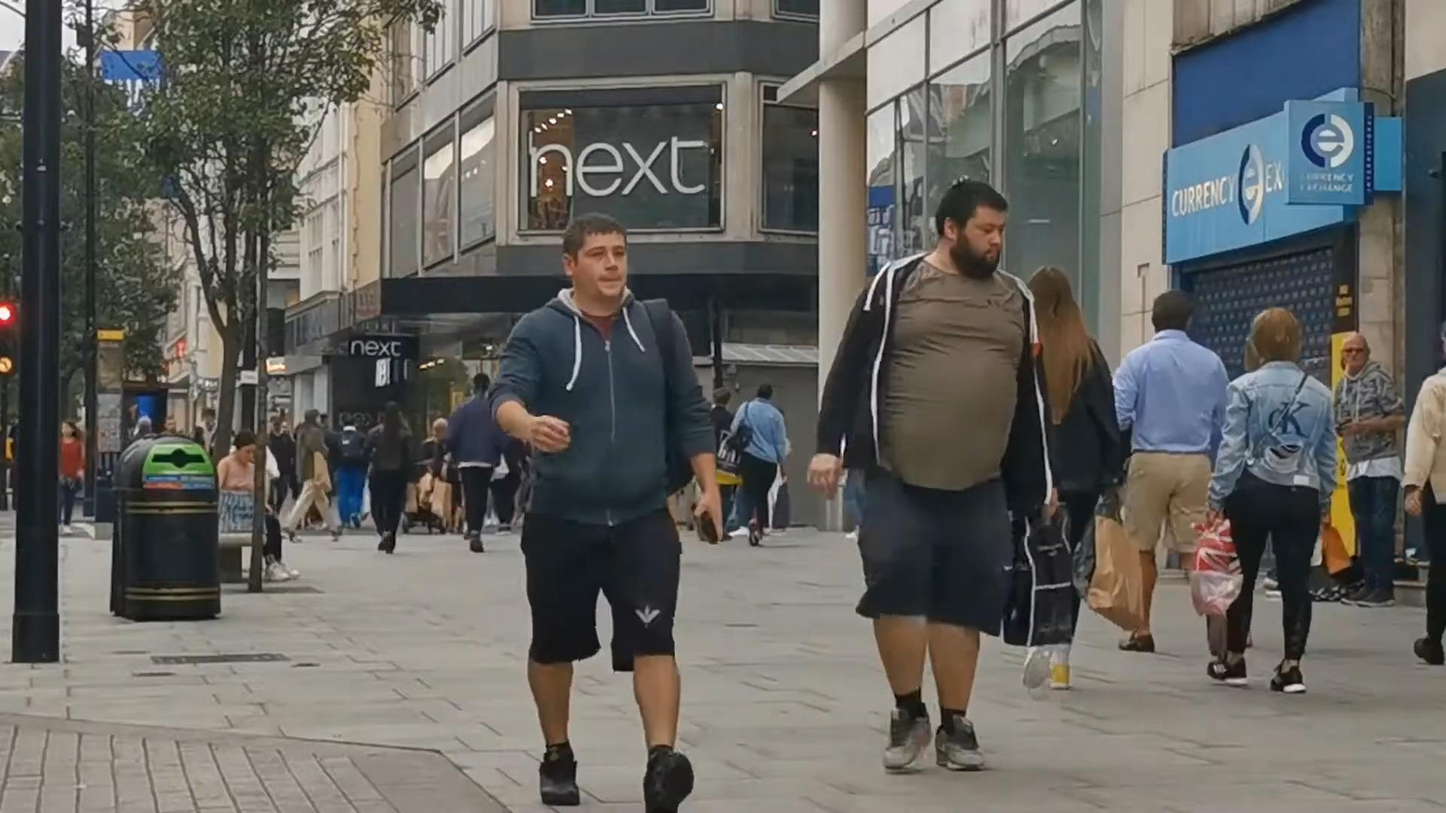no-helmet: (935, 179, 1007, 283), (562, 212, 628, 302), (1026, 265, 1081, 327), (1251, 306, 1301, 366), (1151, 289, 1194, 335), (1341, 332, 1371, 370), (233, 430, 256, 465)
